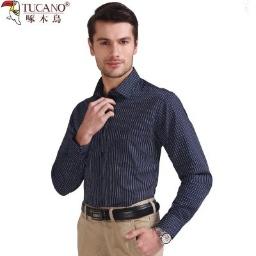face: (87, 1, 138, 79)
